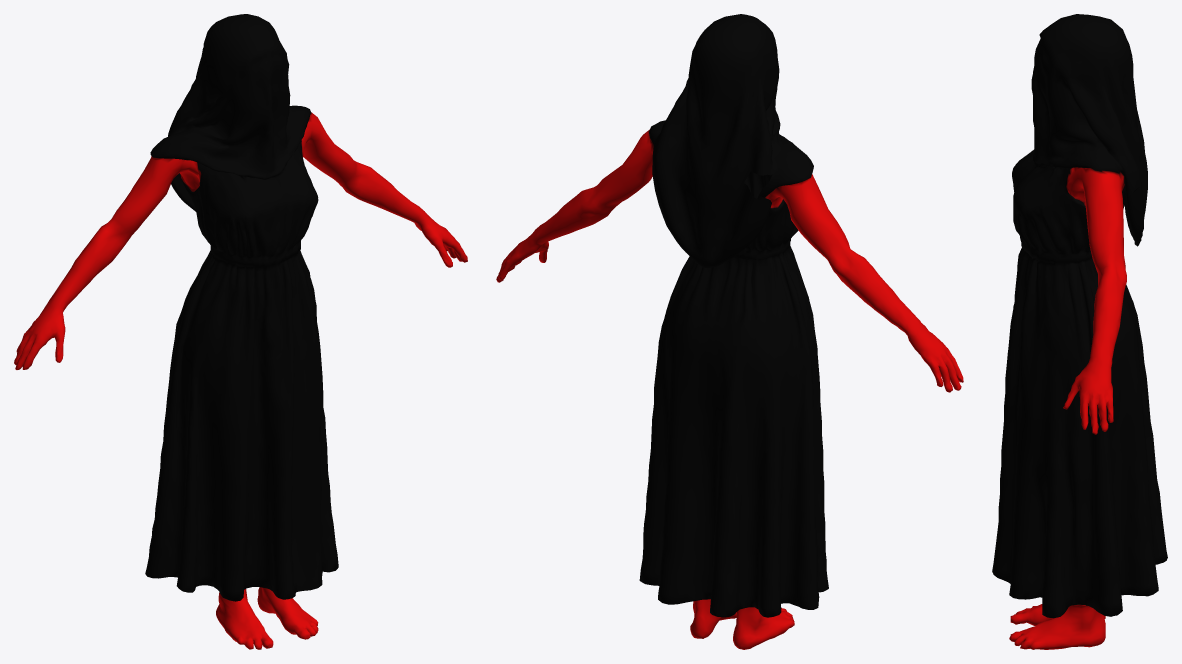
The model's file is heroine_v3_src.glb.
The picture shows the model from 3 angles, left to right: view 1: azimuth 30°, elevation 25°; view 2: azimuth 150°, elevation 25°; view 3: azimuth 270°, elevation 25°; orthographic projection. The views are drawn at different scales.
Parts seen in each view (by area): view 1: Heroine; view 2: Heroine; view 3: Heroine.
Boxes of the visible parts, left/top/right/bottom form: Heroine: left=14, top=14, right=467, bottom=649; Heroine: left=496, top=14, right=963, bottom=649; Heroine: left=992, top=14, right=1167, bottom=649.
Bounding box in the file's own units: 1.32 × 1.7 × 0.4425.
